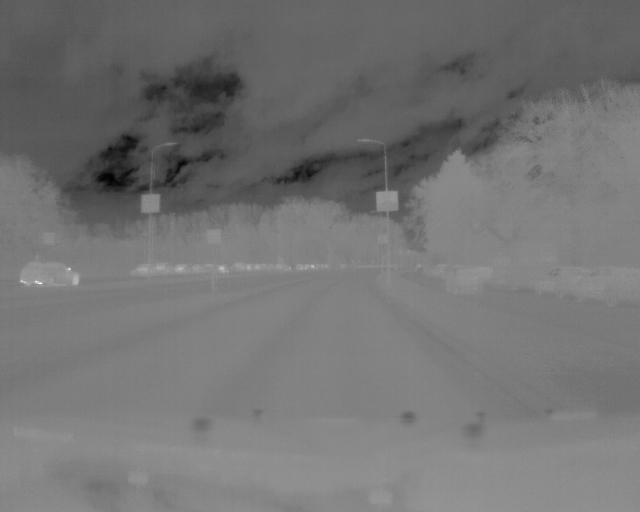car: (16, 259, 83, 289)
